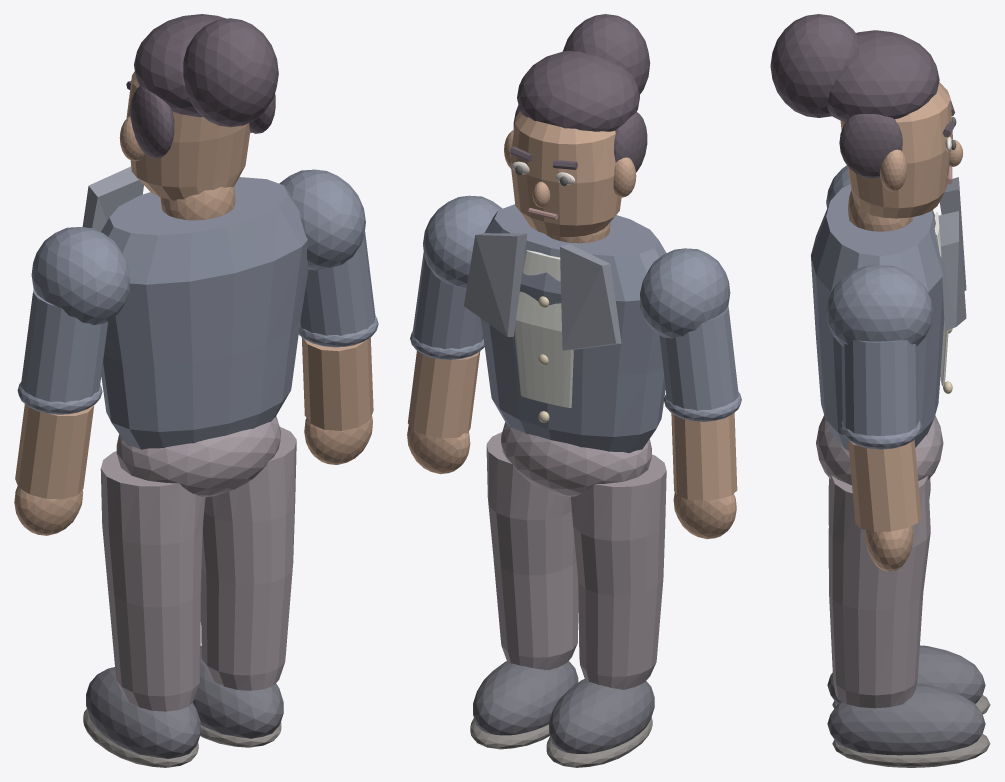
File: blazer_female.glb
The picture shows the model from 3 angles, left to right: view 1: azimuth 30°, elevation 25°; view 2: azimuth 150°, elevation 25°; view 3: azimuth 270°, elevation 25°; orthographic projection. The views are drawn at different scales.
Parts seen in each view (by area): view 1: Body_Torso_002, LL_Pant_035, RL_Pant_040, Body_Bun_022, LA_Shoulder_025, Body_Pelvis_003, LA_Sleeve_026, Body_Face_010, LA_Forearm_028, RA_Forearm_033, LL_Sneaker_036, RA_Shoulder_030 (+13 smaller); view 2: Body_Torso_002, LL_Pant_035, RL_Pant_040, Body_Face_010, Body_HairCap_021, LA_Shoulder_025, Body_Pelvis_003, LL_Sneaker_036, Body_Shirt_004, LA_Sleeve_026, RL_Sneaker_041, Body_Lapel_005 (+14 smaller); view 3: RL_Pant_040, Body_Torso_002, RL_Sneaker_041, Body_HairCap_021, RA_Sleeve_031, RA_Shoulder_030, Body_Face_010, Body_Bun_022, RA_Forearm_033, Body_SideHair_024, LL_Sneaker_036, Body_Pelvis_003 (+9 smaller).
Part boxes in pixels (left/top/right/bottom): Body_Torso_002: left=101, top=177, right=308, bottom=449; LL_Pant_035: left=100, top=451, right=205, bottom=711; RL_Pant_040: left=201, top=427, right=296, bottom=690; Body_Bun_022: left=183, top=18, right=278, bottom=127; LA_Shoulder_025: left=31, top=227, right=129, bottom=325; Body_Pelvis_003: left=116, top=416, right=280, bottom=497; LA_Sleeve_026: left=21, top=289, right=108, bottom=402; Body_Face_010: left=126, top=71, right=250, bottom=200; LA_Forearm_028: left=15, top=404, right=94, bottom=499; RA_Forearm_033: left=301, top=337, right=373, bottom=430; LL_Sneaker_036: left=86, top=667, right=200, bottom=758; RA_Shoulder_030: left=279, top=169, right=365, bottom=270; Body_Torso_002: left=480, top=204, right=666, bottom=453; LL_Pant_035: left=570, top=454, right=666, bottom=689; RL_Pant_040: left=486, top=432, right=578, bottom=669; Body_Face_010: left=510, top=111, right=621, bottom=236; Body_HairCap_021: left=517, top=51, right=639, bottom=131; LA_Shoulder_025: left=640, top=248, right=730, bottom=338; Body_Pelvis_003: left=501, top=422, right=651, bottom=496; LL_Sneaker_036: left=549, top=679, right=654, bottom=753; Body_Shirt_004: left=514, top=250, right=573, bottom=407; LA_Sleeve_026: left=659, top=306, right=738, bottom=410; RL_Sneaker_041: left=473, top=661, right=578, bottom=735; Body_Lapel_005: left=560, top=244, right=621, bottom=350; RL_Pant_040: left=828, top=476, right=930, bottom=708; Body_Torso_002: left=811, top=184, right=944, bottom=450; RL_Sneaker_041: left=827, top=684, right=985, bottom=755; Body_HairCap_021: left=827, top=30, right=939, bottom=122; RA_Sleeve_031: left=841, top=340, right=919, bottom=435; RA_Shoulder_030: left=826, top=264, right=933, bottom=346; Body_Face_010: left=840, top=82, right=952, bottom=218; Body_Bun_022: left=770, top=14, right=859, bottom=117; RA_Forearm_033: left=848, top=440, right=921, bottom=531; Body_SideHair_024: left=839, top=114, right=902, bottom=178; LL_Sneaker_036: left=827, top=645, right=985, bottom=704; Body_Pelvis_003: left=816, top=415, right=943, bottom=485.
Size of the model in its own units: 1.54 by 3.12 by 0.862.
